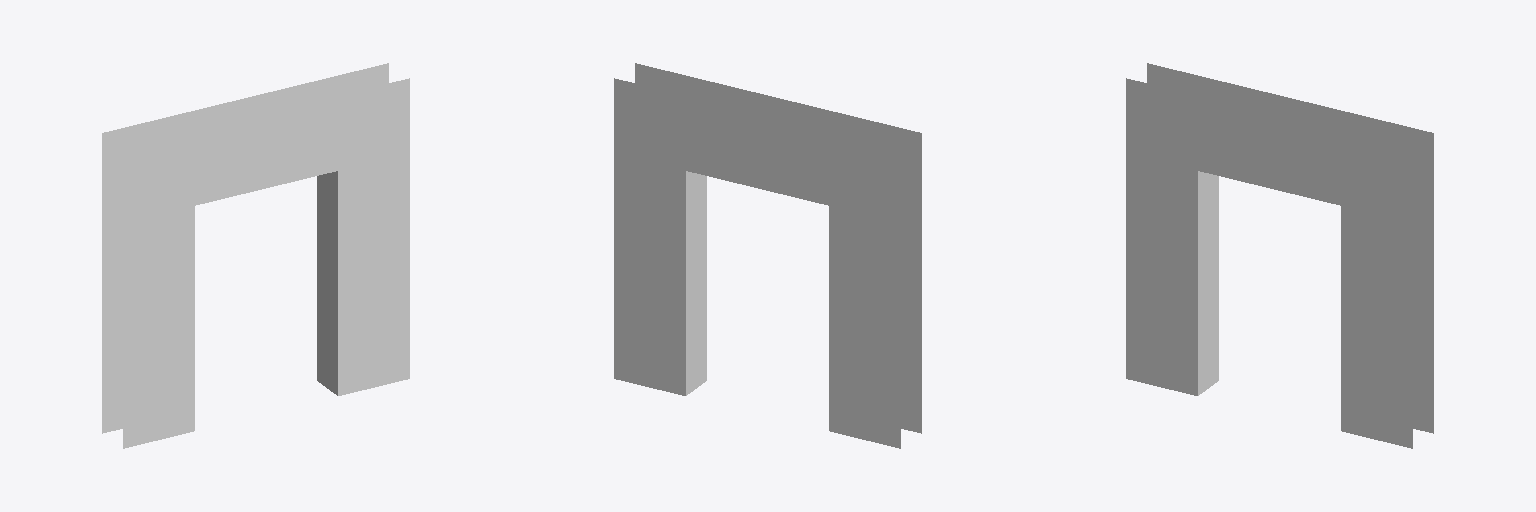
File: Doorway.obj
The picture shows the model from 3 angles: view 1: azimuth 30°, elevation 25°; view 2: azimuth 150°, elevation 25°; view 3: azimuth 330°, elevation 25°; orthographic projection.
Visible parts, largest first — view 1: Doorway; view 2: Doorway; view 3: Doorway.
Part boxes in pixels (bbox=[...]): Doorway: bbox=[102, 63, 409, 448]; Doorway: bbox=[614, 63, 921, 448]; Doorway: bbox=[1126, 63, 1433, 448].
Bounding box in the file's own units: 4 × 4 × 0.5.